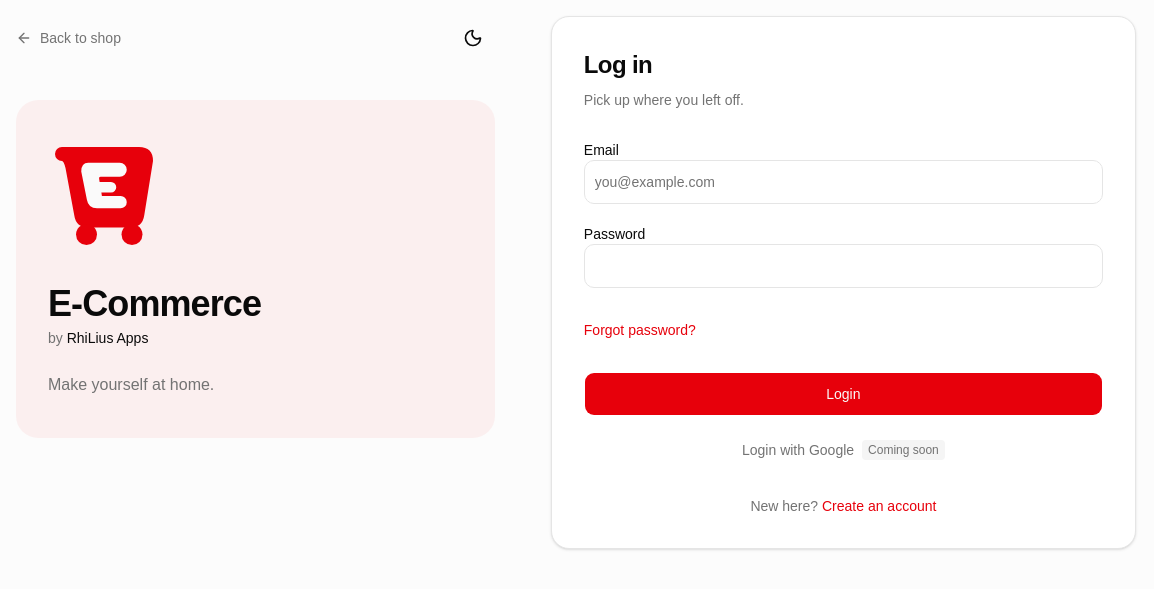
LoginPage › explains Google availability without submitting the login form
Step 1. Click the button "Login with Google Coming soon" → (843,450), box x1=584 y1=428 x2=1103 y2=472
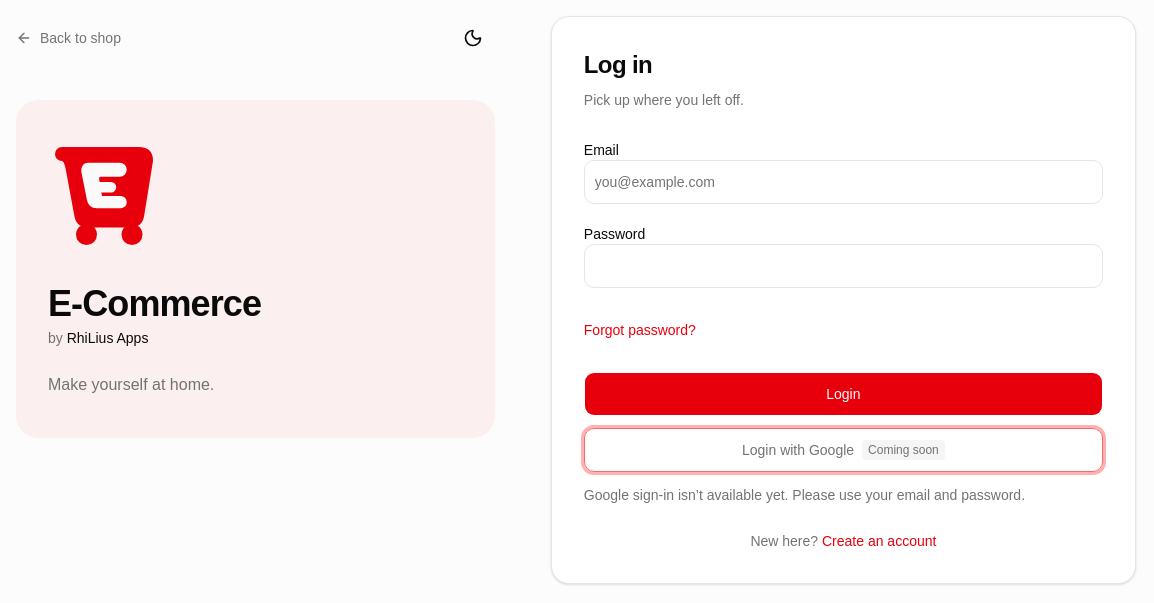
Expected: the button "Login" is enabled, x1=584 y1=372 x2=1103 y2=416
Expected: the message reads "Google sign-in isn’t available yet. Please use your email and password.", x1=584 y1=487 x2=1025 y2=503
